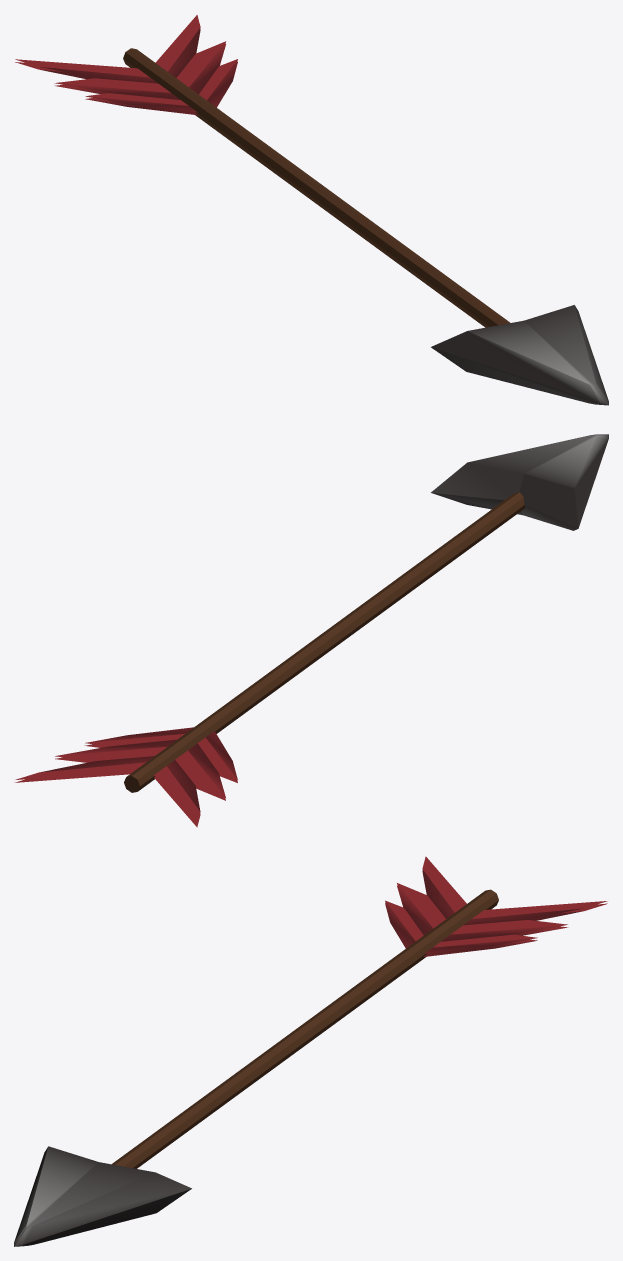
The model's file is Arrow.fbx.
3 views of the same model, one above another, from view 1: azimuth 30°, elevation 25°; view 2: azimuth 150°, elevation 25°; view 3: azimuth 330°, elevation 25° (orthographic).
Parts seen in each view (by area): view 1: Arrow; view 2: Arrow; view 3: Arrow.
Boxes of the visible parts, box(x1,y1,x2,y2) form: Arrow: box(15, 15, 608, 405); Arrow: box(14, 434, 608, 827); Arrow: box(14, 856, 607, 1246).
Size of the model in its own units: 0.1103 by 0.0239 by 0.5247.
